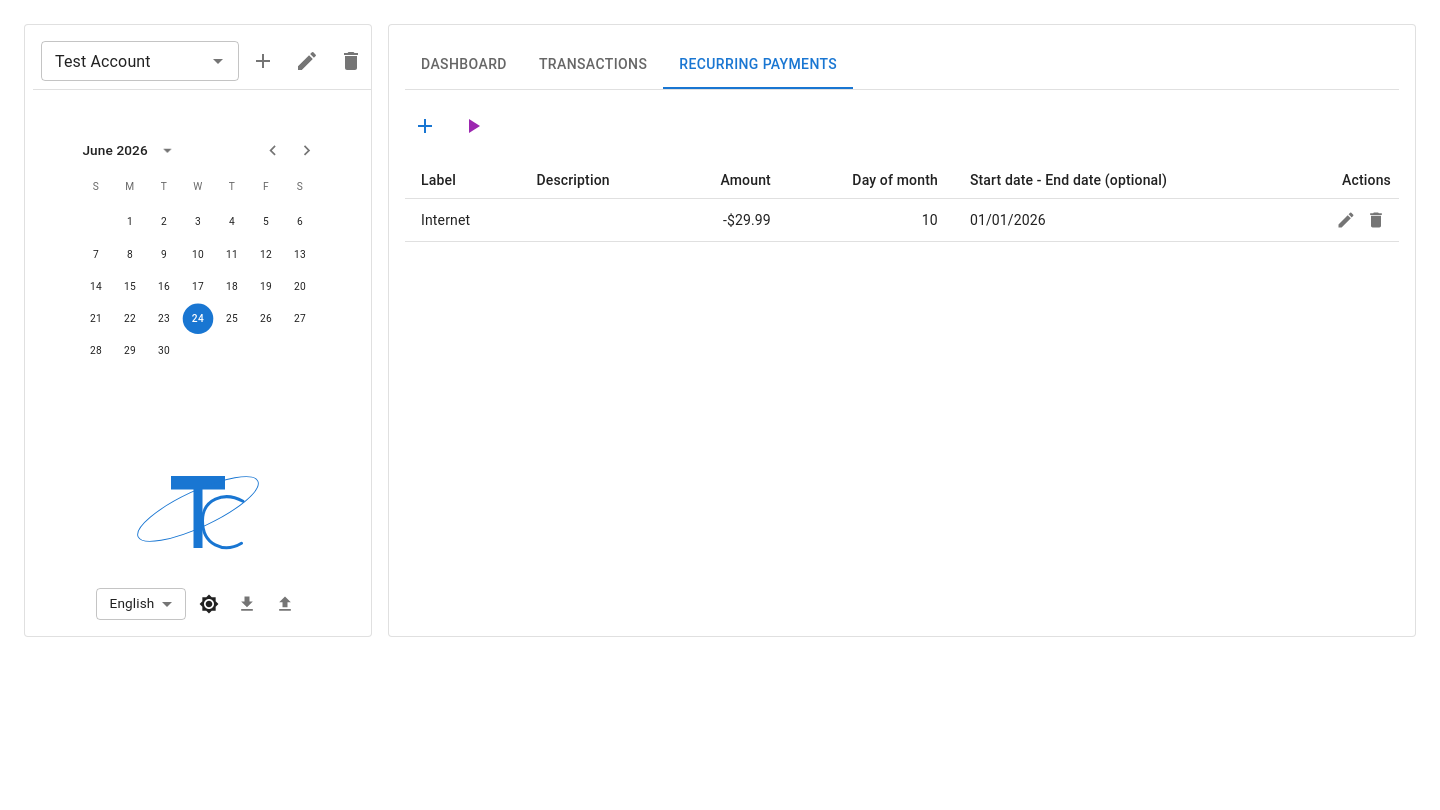
Scenario: TransactionEditionArea › opens recurring import dialog when on recurring payments tab
Click the button named "import" at (285, 604), box [270,589,300,619]
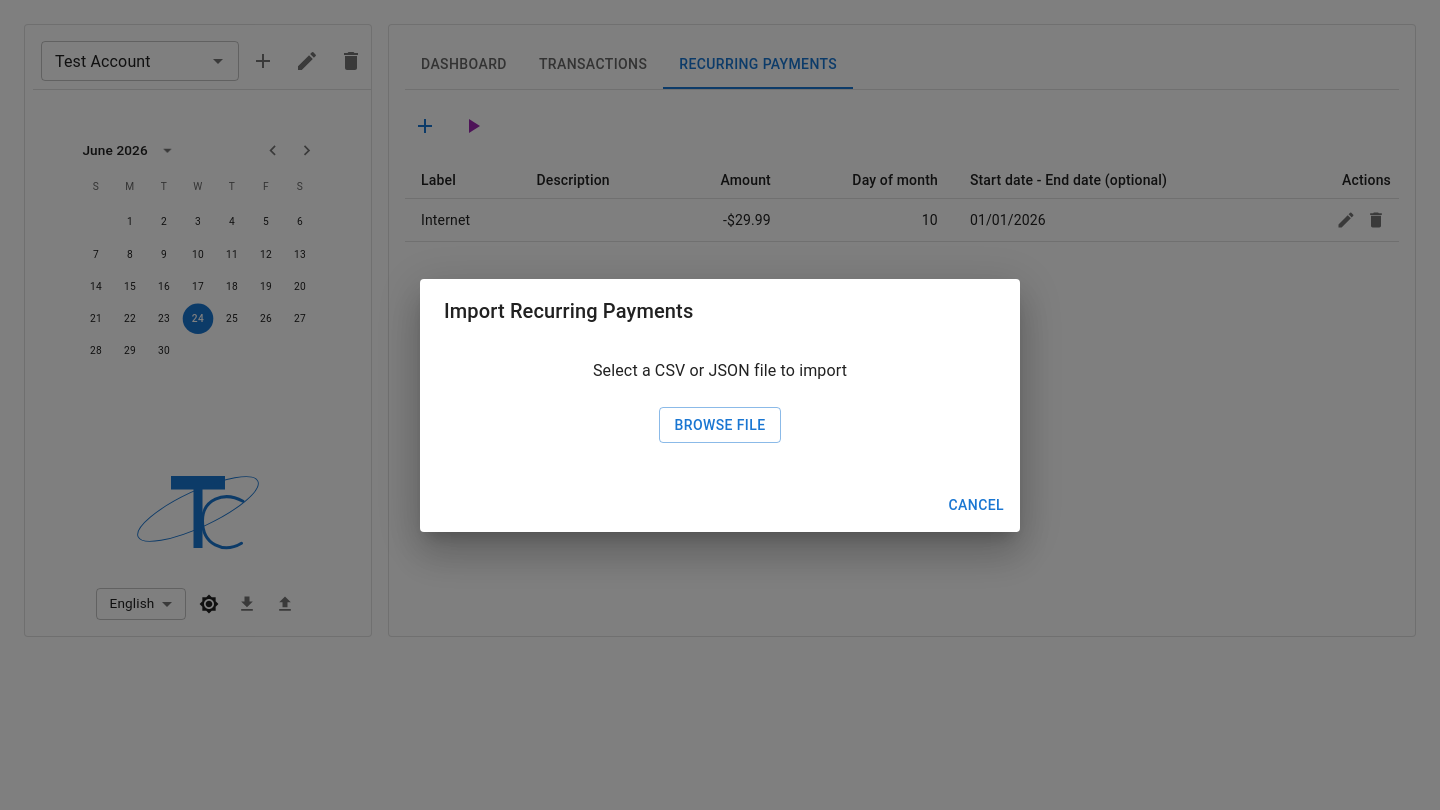
Expected: the heading "Import Recurring Payments" is shown, [444,298,693,322]
